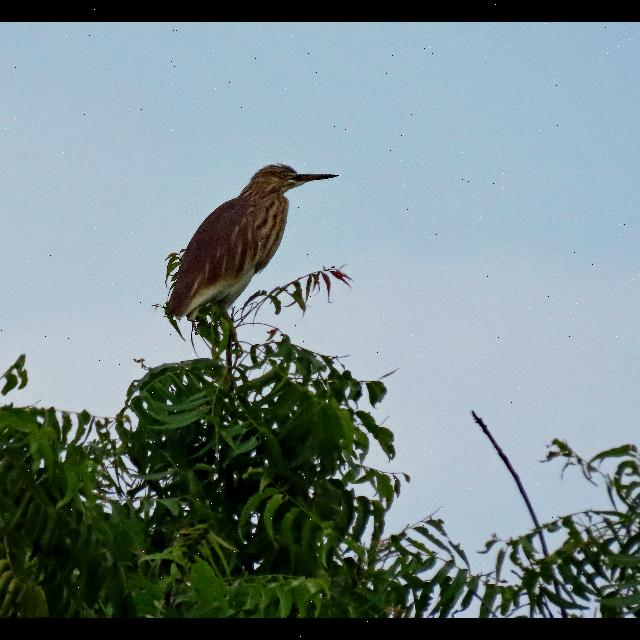heron: (160, 158, 352, 326)
